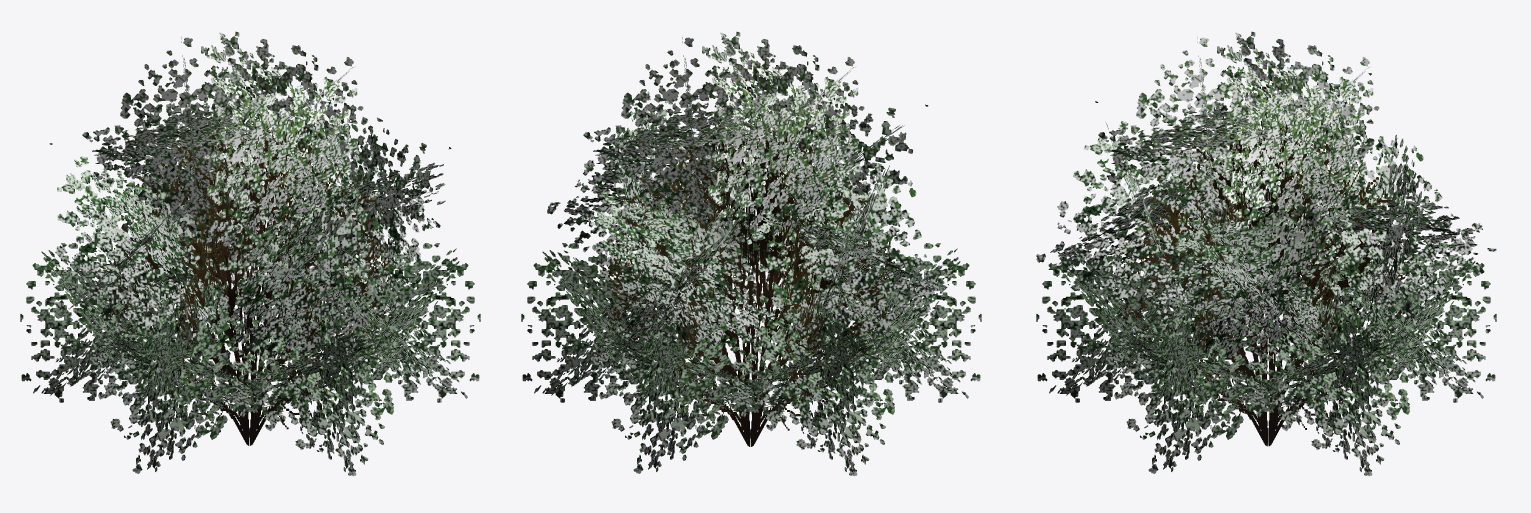
File: sleedoorn_2.fbx
3 views of the same model, side by side, from view 1: azimuth 30°, elevation 25°; view 2: azimuth 150°, elevation 25°; view 3: azimuth 270°, elevation 25° (orthographic).
Parts seen in each view (by area): view 1: sleedoorn_2; view 2: sleedoorn_2; view 3: sleedoorn_2.
Boxes of the visible parts, x1=… form: sleedoorn_2: x1=20, y1=31, x2=480, y2=476; sleedoorn_2: x1=521, y1=31, x2=981, y2=476; sleedoorn_2: x1=1036, y1=31, x2=1496, y2=476.
Size of the model in its own units: 1036 by 890 by 1036.
